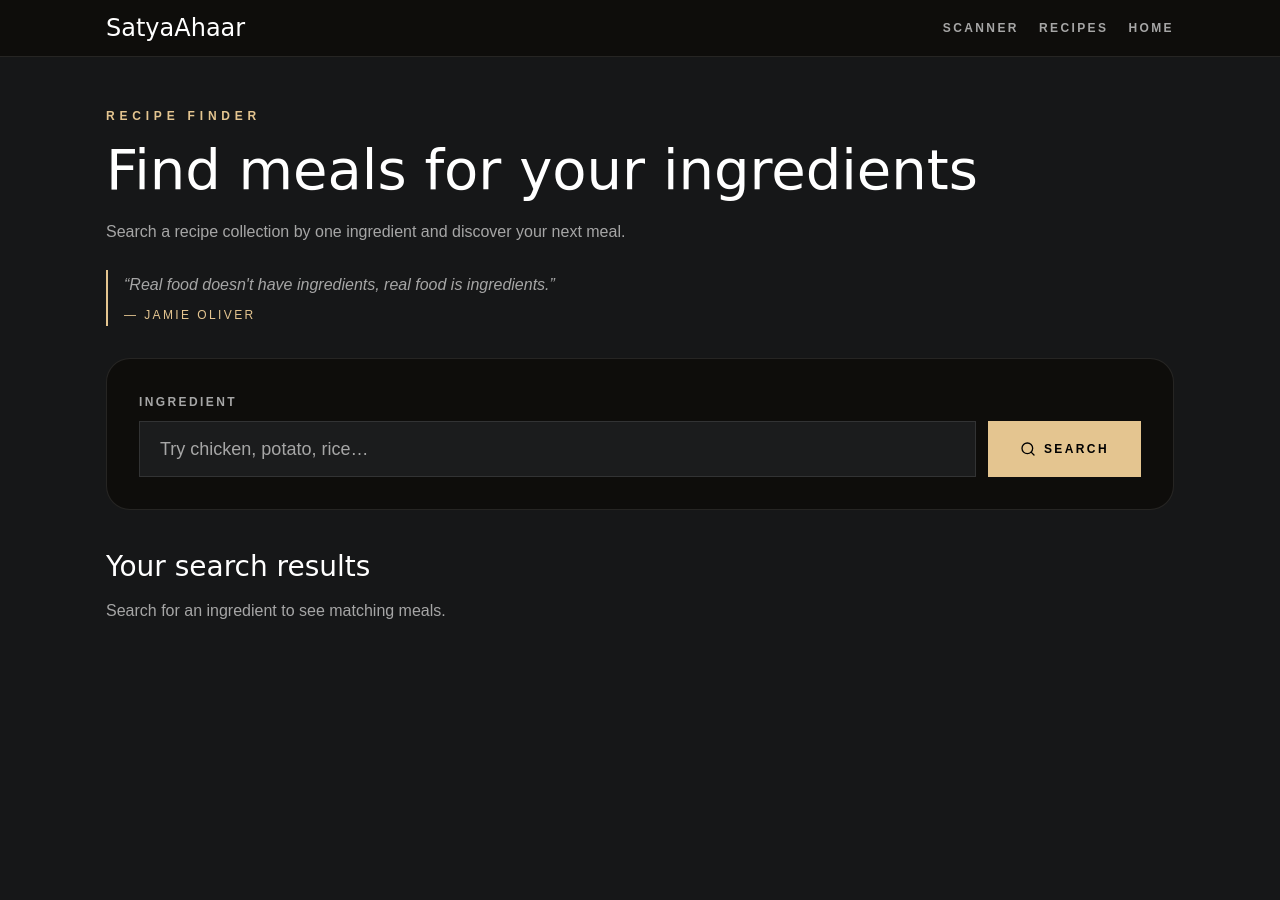
Test: RecipeSearchPage › shows the API error message when the search fails
The image size is (1280, 900).
Type "rice" into the field labelled "Ingredient" at (557, 449), box [139,421,976,477]
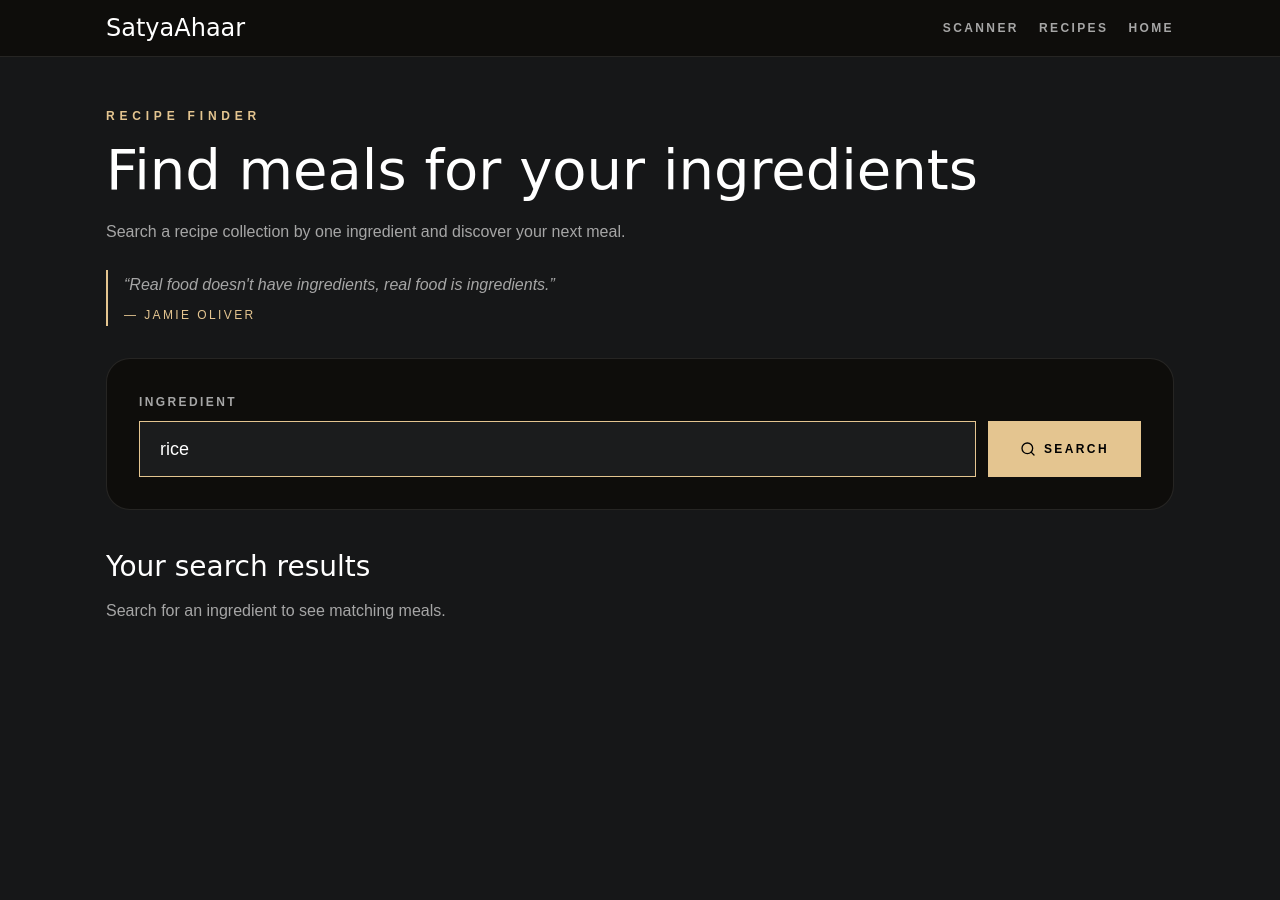
Click the button "Search" at (1064, 449), box [988,421,1141,477]
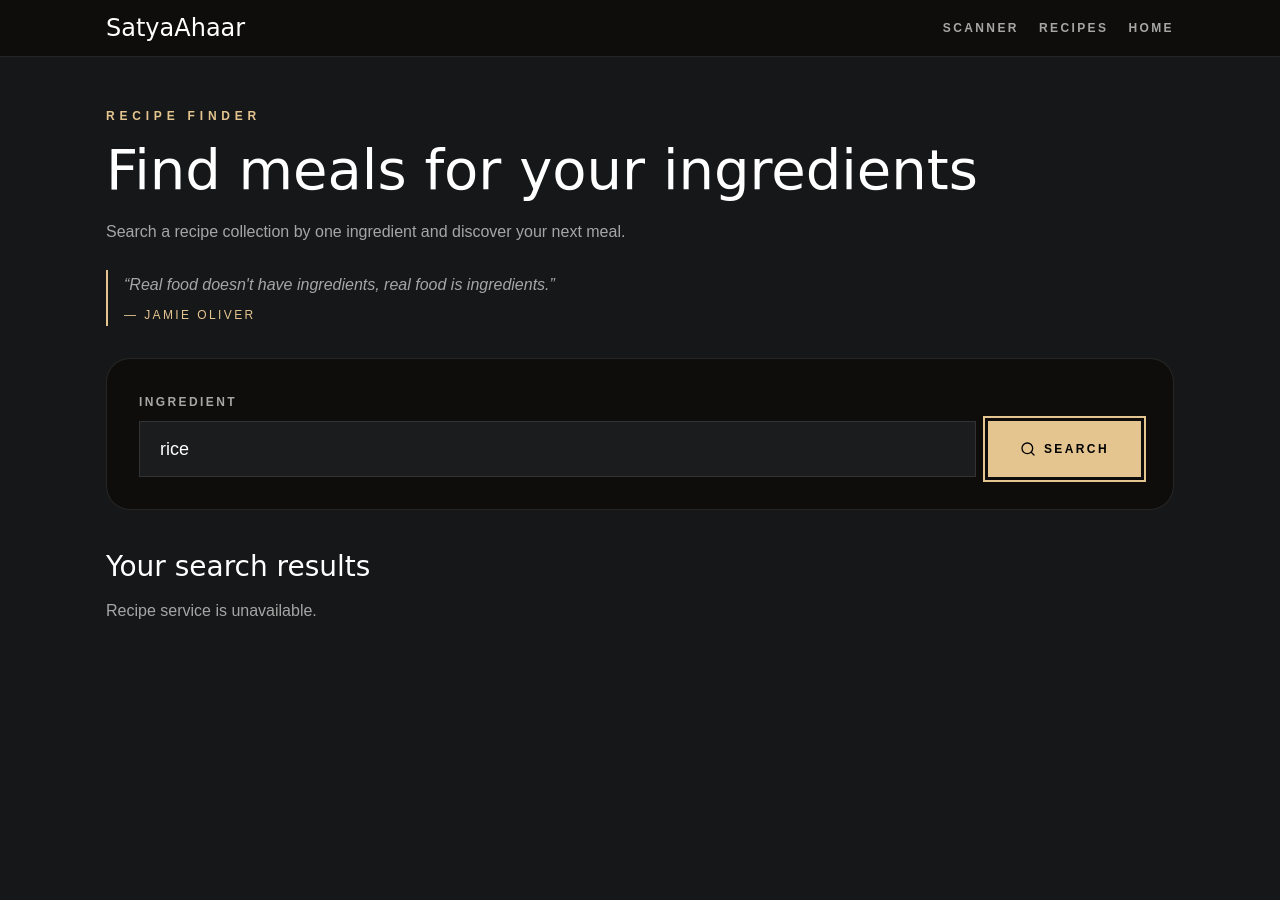
Now the text "Recipe service is unavailable." is shown, box [106,602,317,619]
